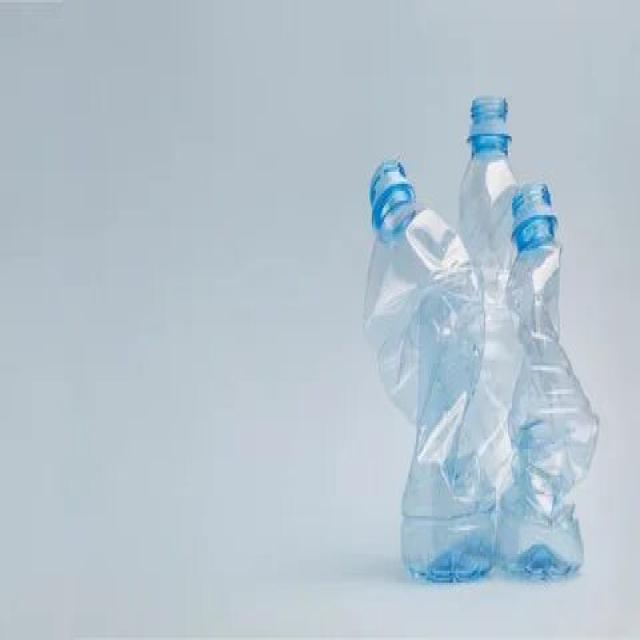blue: (366, 159, 500, 581), (493, 183, 599, 576)
